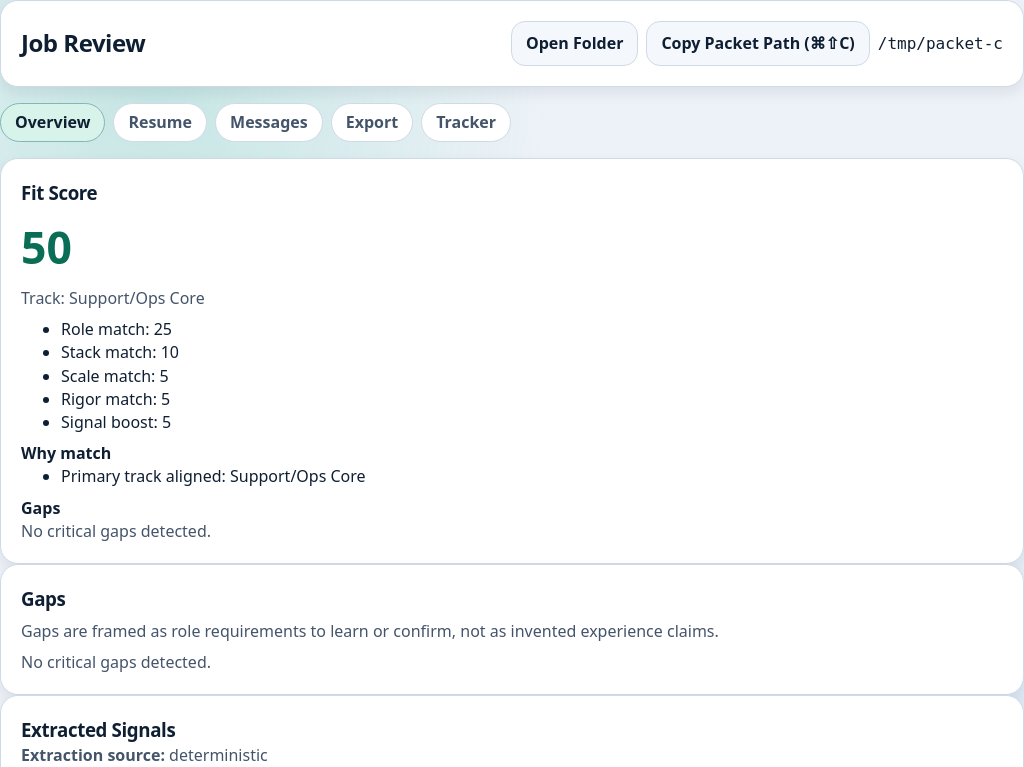
Test: JobReview tracker state › renders resume edits and truth violations when present
Step 1. Click the tab "Resume" → (160, 123), box x1=113 y1=103 x2=207 y2=142
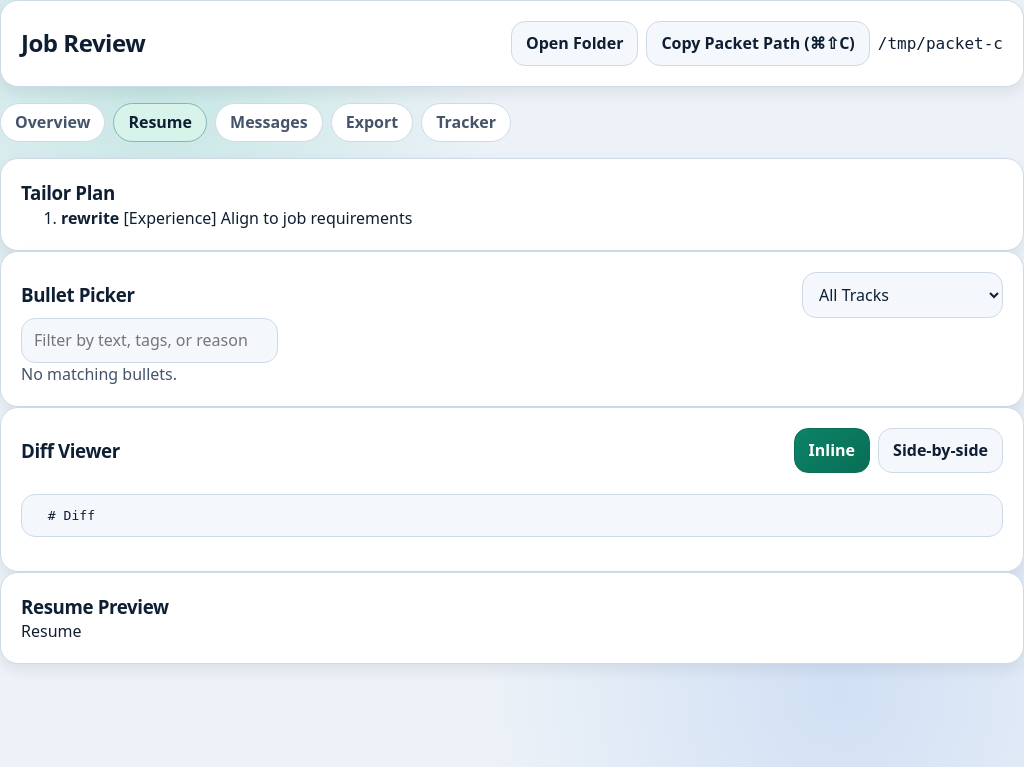
Expected: the list item "rewrite [Experience] Align to job requirements" is shown, x1=61 y1=206 x2=412 y2=228
Step 2. Click the tab "Export" → (372, 123), box x1=331 y1=103 x2=413 y2=142
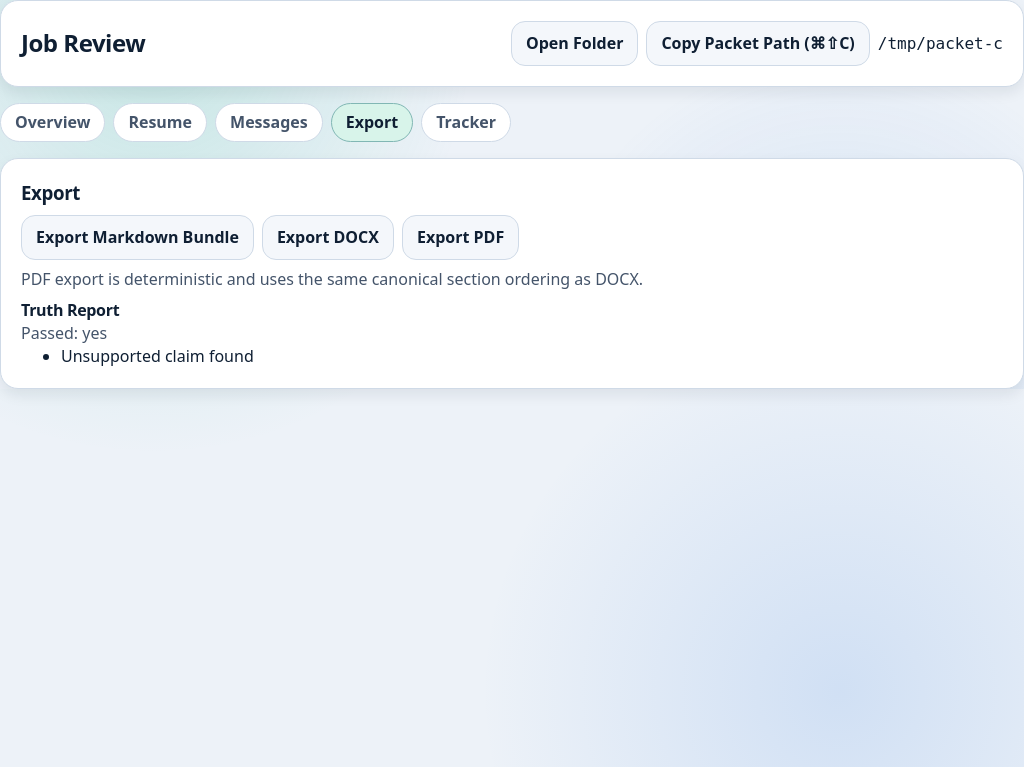
Expected: the list item "Unsupported claim found" is shown, x1=61 y1=345 x2=254 y2=367
